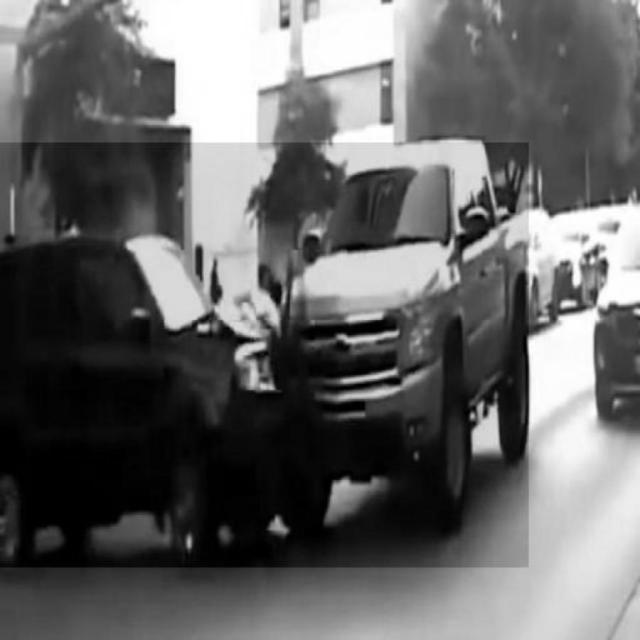accident: (0, 142, 528, 567)
vehicle: (588, 204, 640, 424)
